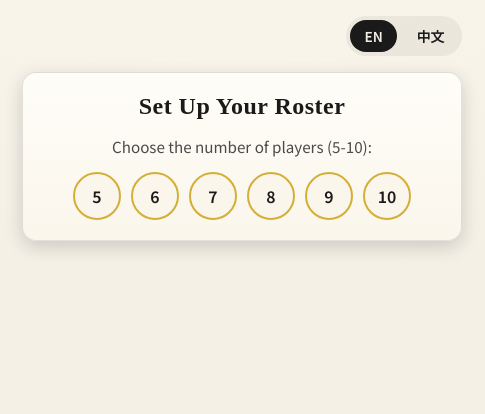
HostSetupPage › enables Next button only after name is entered
The image size is (485, 414).
Click the button "5" at [97, 196], box left=73, top=172, right=121, bottom=220
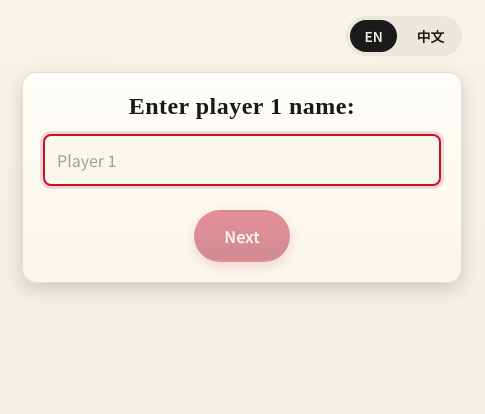
Result: the button "Next" is disabled at left=194, top=210, right=290, bottom=262
Type "Alice" into the field with placeholder "Player 1" at [242, 160], box left=43, top=134, right=441, bottom=186
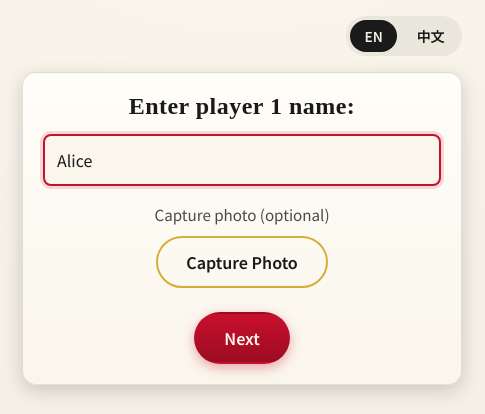
Result: the button "Next" is enabled at left=194, top=312, right=290, bottom=364
